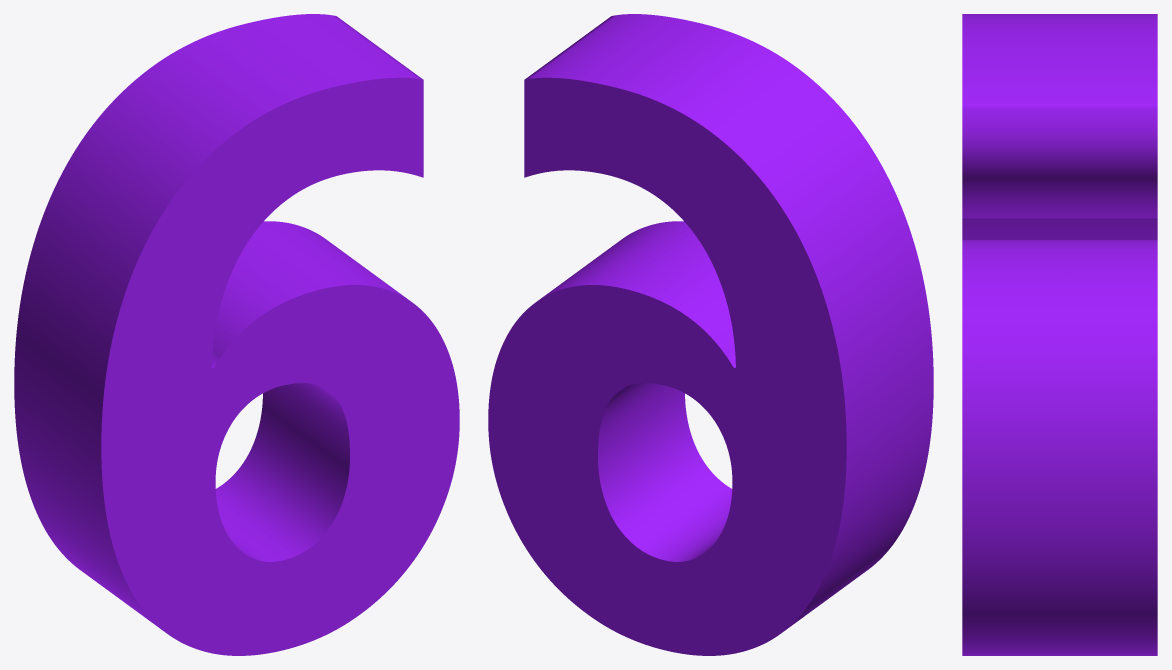
The model's file is score6.glb.
3 renders of one model, left to right at view 1: azimuth 30°, elevation 25°; view 2: azimuth 150°, elevation 25°; view 3: azimuth 270°, elevation 25°, orthographic. The views are drawn at different scales.
Visible parts, largest first — view 1: Text-col; view 2: Text-col; view 3: Text-col.
Part boxes in pixels (left/top/right/bottom): Text-col: left=14, top=14, right=459, bottom=655; Text-col: left=488, top=14, right=933, bottom=655; Text-col: left=962, top=14, right=1157, bottom=655.
Bounding box in the file's own units: 0.2852 × 0.4188 × 0.12.
